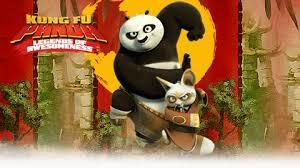KungfuPanda: (108, 18, 219, 112)
